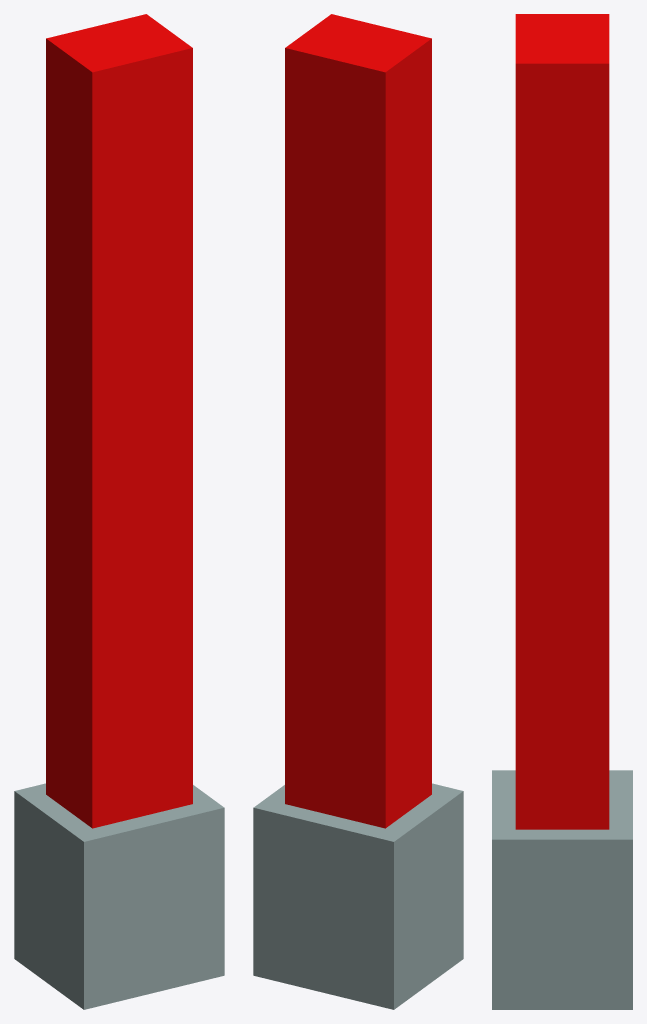
The model's file is red_lightsword.fbx.
3 views of the same model, side by side, from view 1: azimuth 30°, elevation 25°; view 2: azimuth 150°, elevation 25°; view 3: azimuth 270°, elevation 25° (orthographic).
Parts seen in each view (by area): view 1: cube_1, cube; view 2: cube_1, cube; view 3: cube_1, cube.
Part boxes in pixels (x1,y1,x2,y2): cube_1: [46, 14, 192, 828]; cube: [14, 783, 224, 1009]; cube_1: [285, 14, 431, 828]; cube: [253, 783, 463, 1009]; cube_1: [515, 14, 609, 829]; cube: [492, 770, 632, 1009].
Size of the model in its own units: 10.94 by 68.75 by 9.38.
Materials: 1 (1 with a texture image).
